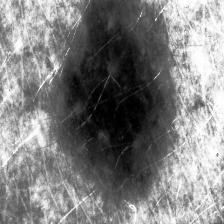Benign Marking or Mole: (60, 0, 172, 197)
